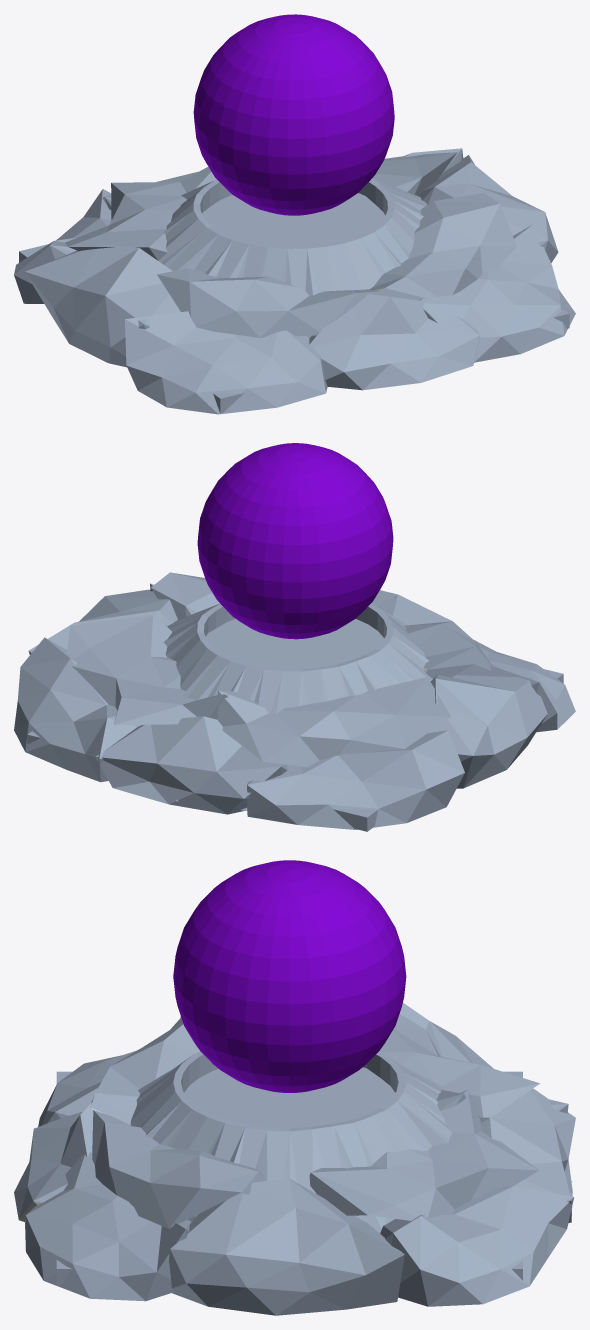
The model's file is Nexus.fbx.
3 views of the same model, one above another, from view 1: azimuth 30°, elevation 25°; view 2: azimuth 150°, elevation 25°; view 3: azimuth 270°, elevation 25° (orthographic). The views are drawn at different scales.
Visible parts, largest first — view 1: Sphere; view 2: Sphere; view 3: Sphere.
Part boxes in pixels (x1,y1,x2,y2): Sphere: (14, 14, 575, 414); Sphere: (14, 443, 575, 831); Sphere: (14, 860, 575, 1315).
Bounding box in the file's own units: 131 × 75.22 × 121.
